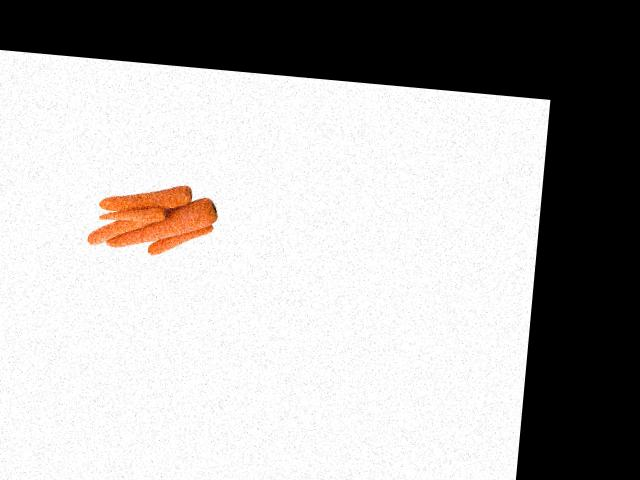carrot: (95, 181, 196, 213)
